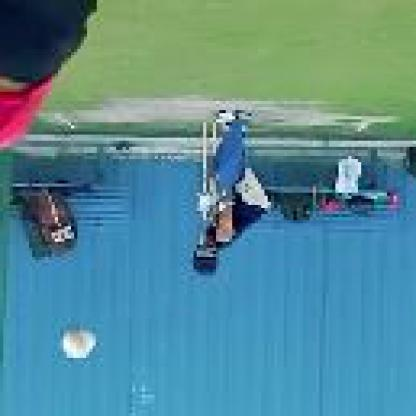ball: (58, 323, 100, 362)
